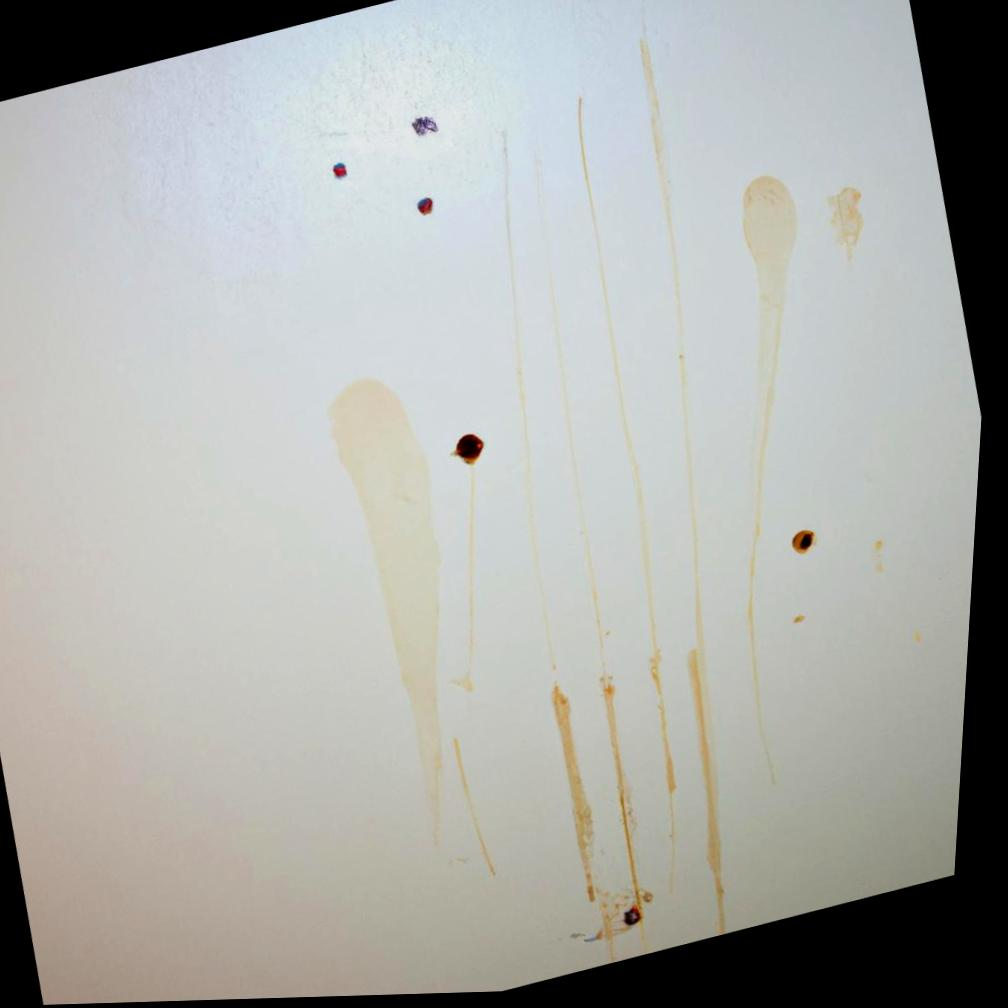Fire: (458, 436, 490, 468)
